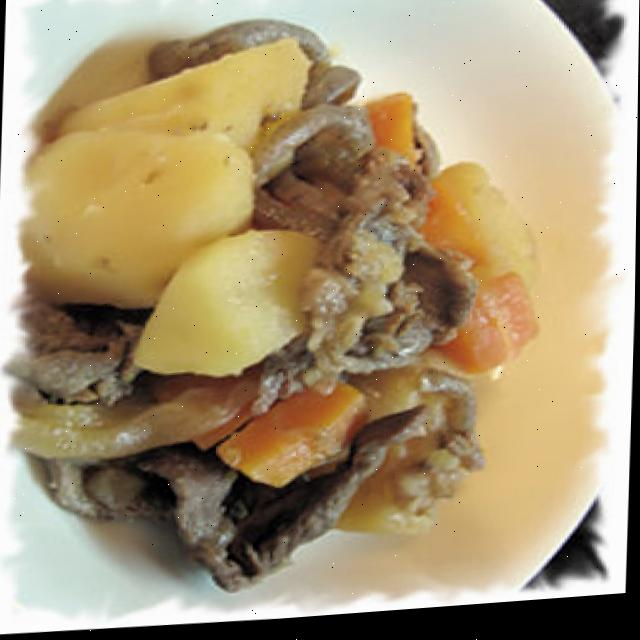牛肉菜式: (41, 0, 590, 607)
